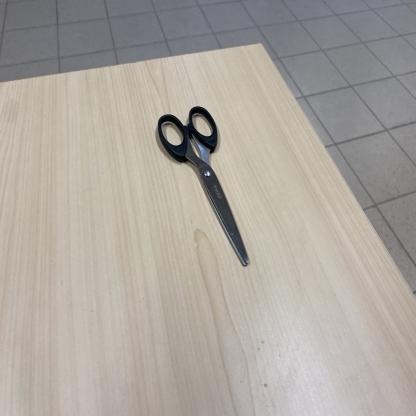scissors: (157, 106, 251, 267)
